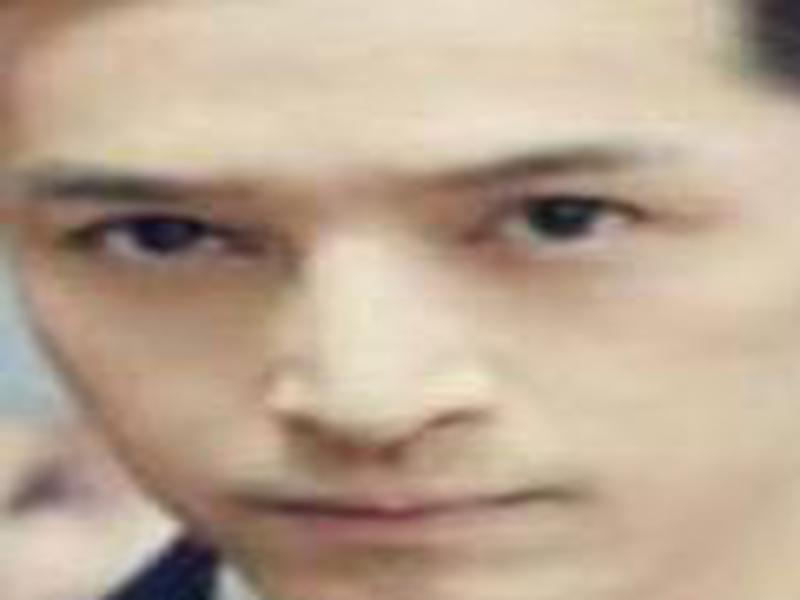without_mask: (2, 1, 798, 600)
